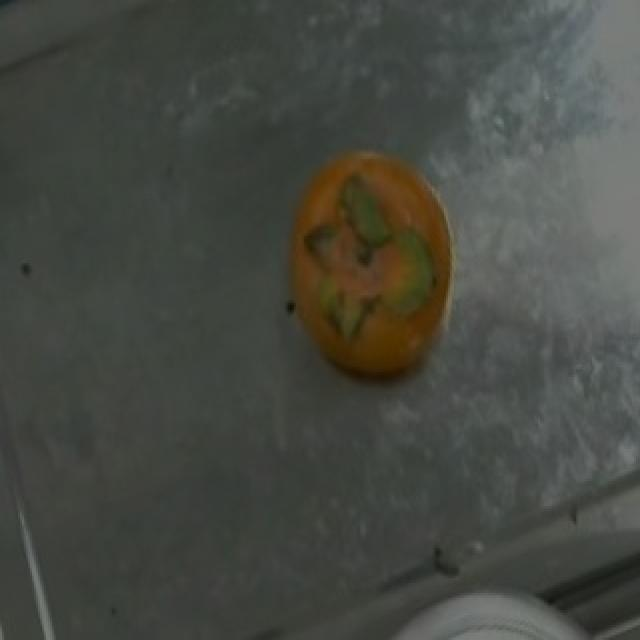Fruit: (262, 139, 480, 399)
